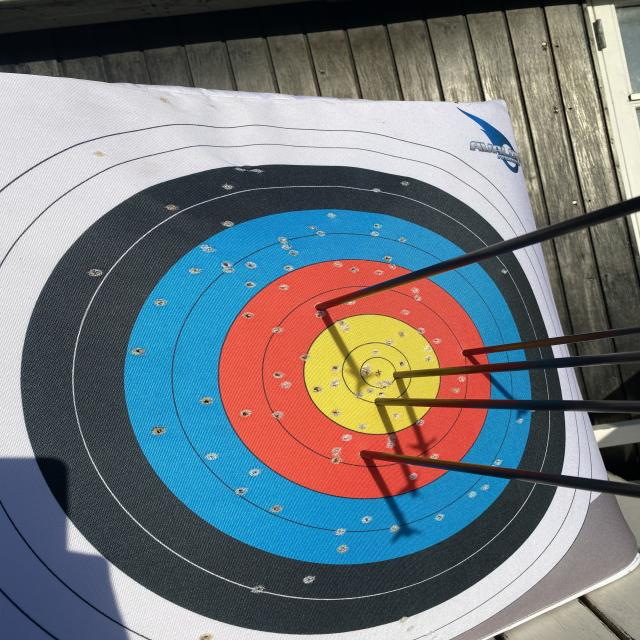Arrow_Red: (311, 290, 358, 332), (350, 438, 393, 474), (439, 331, 481, 366)
Arrow_Yellow: (361, 385, 409, 425), (381, 357, 425, 396)
